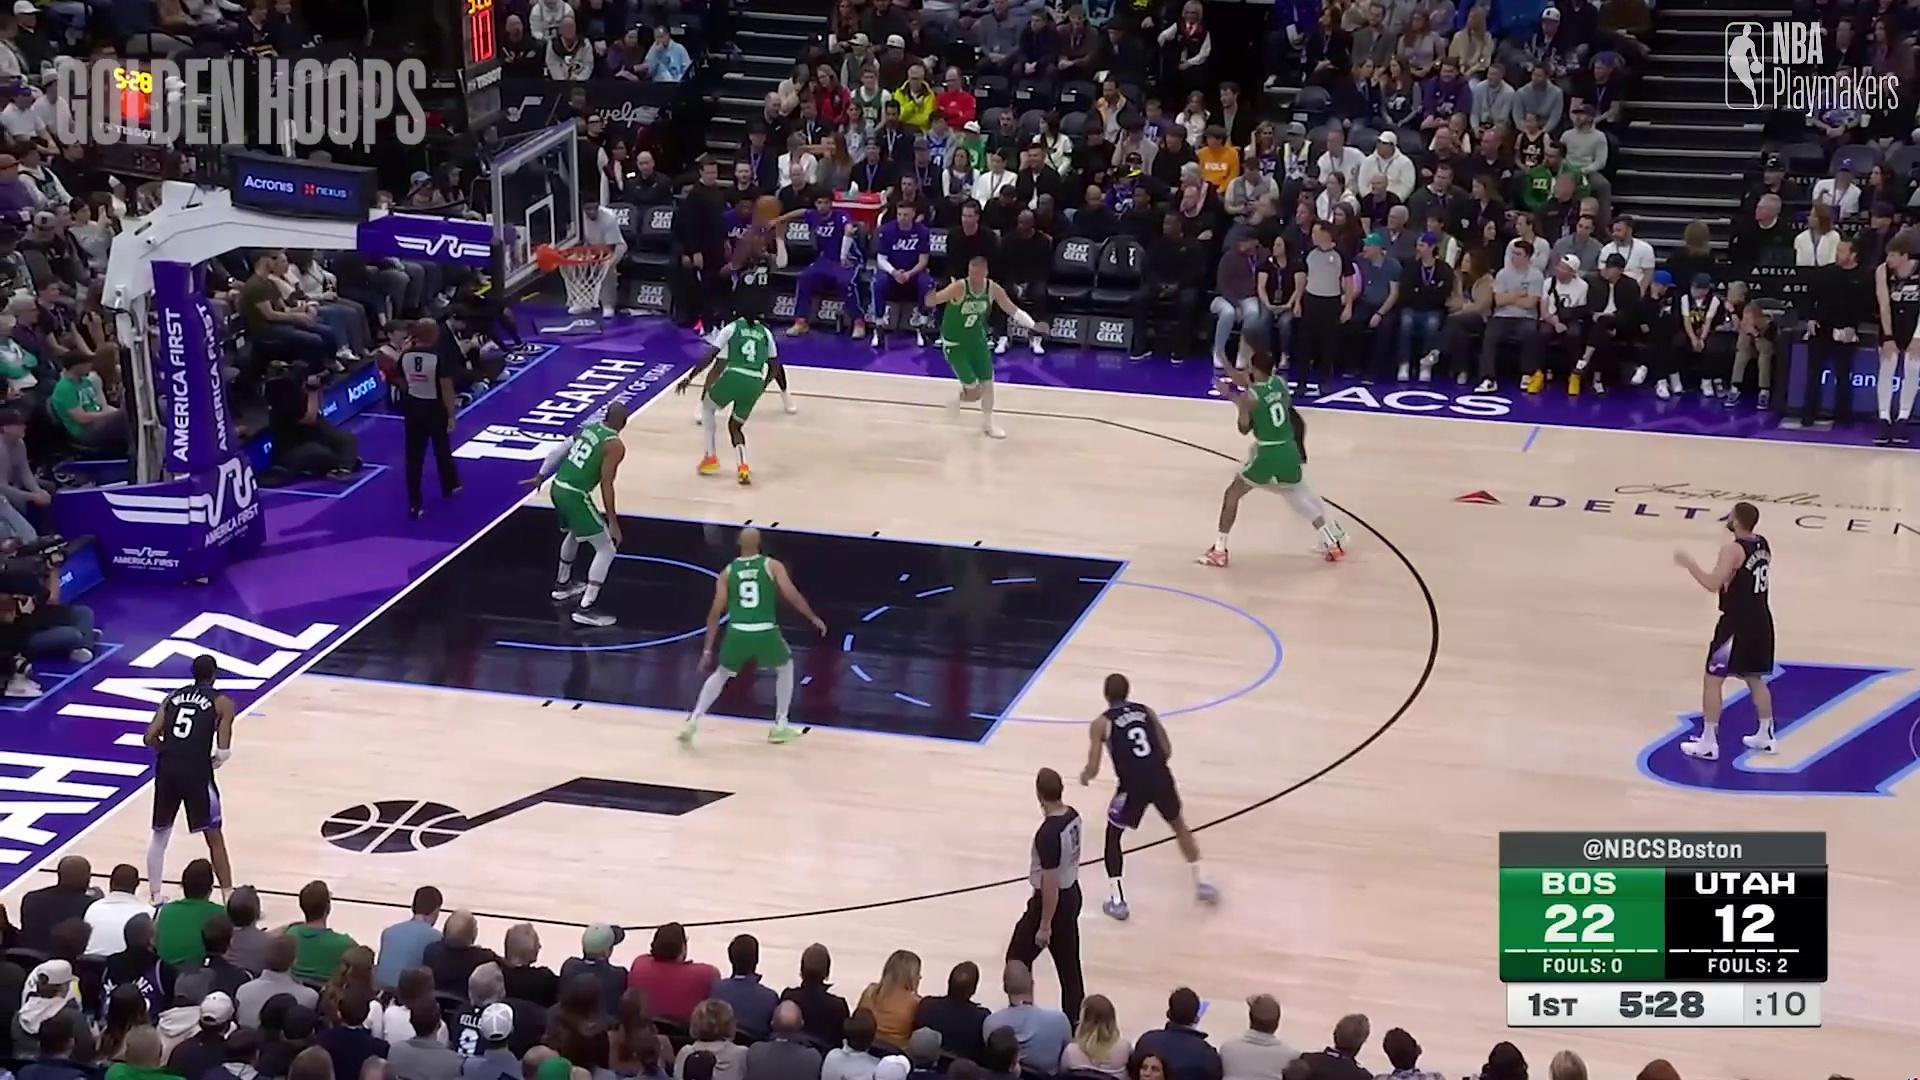ball: (754, 194, 779, 224)
hoop: (553, 232, 617, 313)
